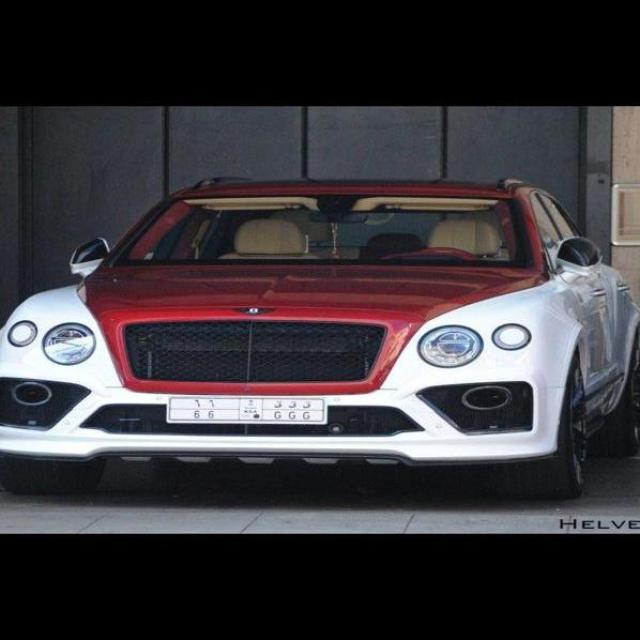license_plate: (165, 392, 325, 428)
